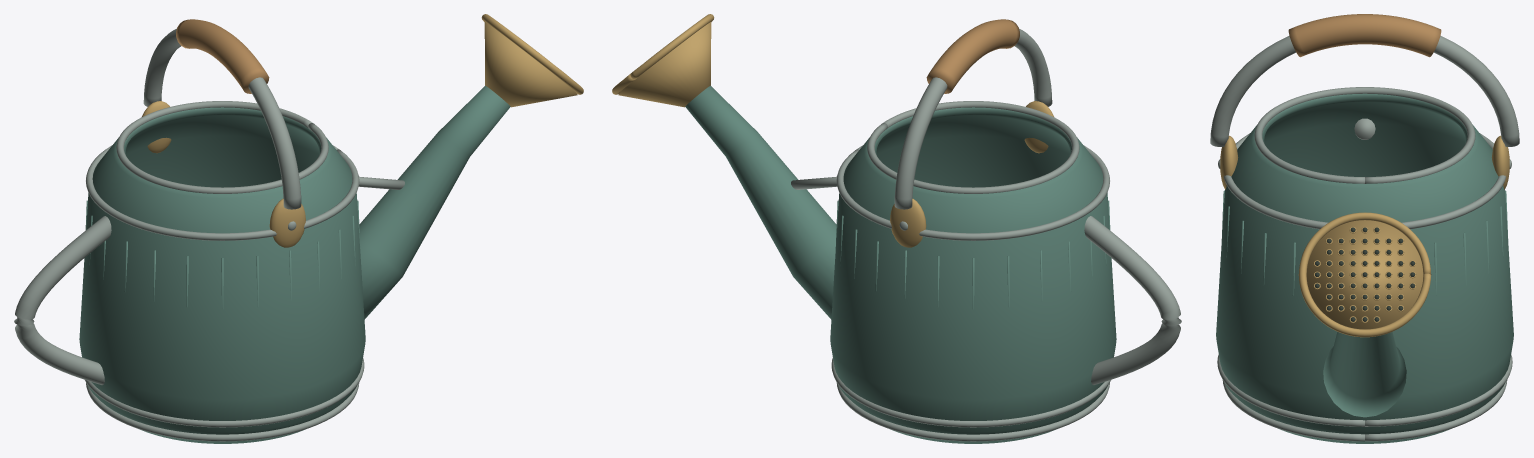
File: watering-can.glb
3 views of the same model, side by side, from view 1: azimuth 30°, elevation 25°; view 2: azimuth 150°, elevation 25°; view 3: azimuth 270°, elevation 25° (orthographic). The views are drawn at different scales.
Visible parts, largest first — view 1: Watering_can_Sage vitreous enamel, Watering_can_Rolled steel edges, Watering_can_Brushed warm brass, Watering_can_Oiled ash grip; view 2: Watering_can_Sage vitreous enamel, Watering_can_Rolled steel edges, Watering_can_Brushed warm brass, Watering_can_Oiled ash grip; view 3: Watering_can_Sage vitreous enamel, Watering_can_Rolled steel edges, Watering_can_Brushed warm brass, Watering_can_Oiled ash grip, Watering_can_Interior shadow.
Boxes of the visible parts, x1,y1,x2,y2 form: Watering_can_Sage vitreous enamel: (79, 85, 510, 443); Watering_can_Rolled steel edges: (14, 28, 404, 441); Watering_can_Brushed warm brass: (142, 14, 583, 247); Watering_can_Oiled ash grip: (176, 19, 269, 93); Watering_can_Sage vitreous enamel: (685, 85, 1116, 443); Watering_can_Rolled steel edges: (791, 28, 1181, 441); Watering_can_Brushed warm brass: (612, 14, 1053, 247); Watering_can_Oiled ash grip: (926, 19, 1019, 93); Watering_can_Sage vitreous enamel: (1216, 93, 1513, 443); Watering_can_Rolled steel edges: (1210, 35, 1519, 441); Watering_can_Brushed warm brass: (1220, 135, 1509, 337); Watering_can_Oiled ash grip: (1288, 14, 1441, 57); Watering_can_Interior shadow: (1315, 227, 1414, 321).
Size of the model in its own units: 1.01 by 0.6277 by 0.4673.
